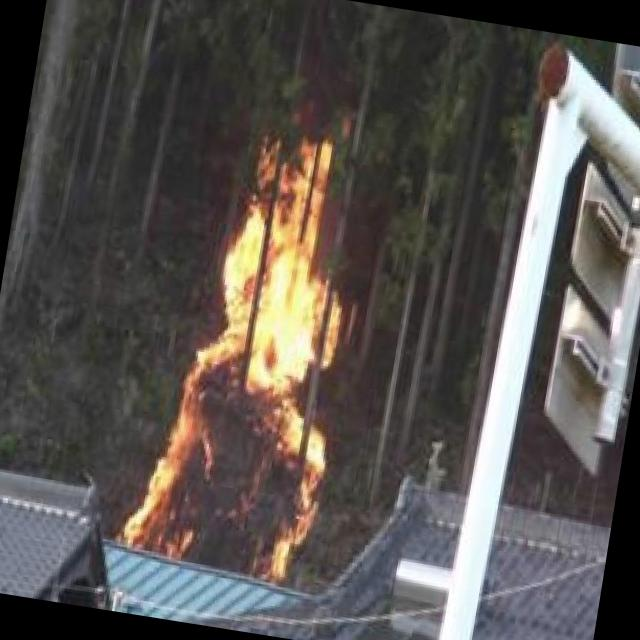Fire: (134, 120, 380, 584)
